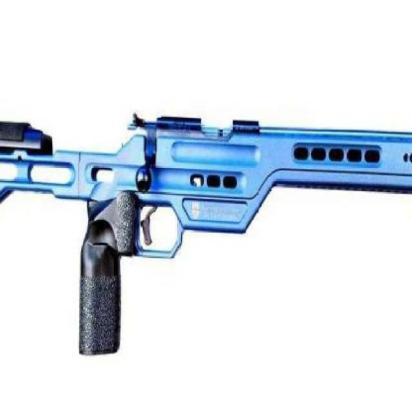Gun: (3, 93, 395, 365)
